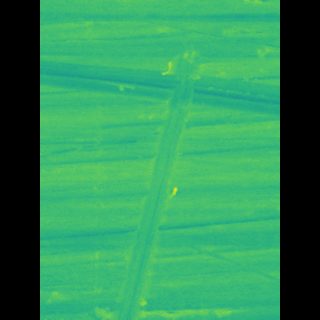Loch: (116, 46, 193, 319), (68, 55, 250, 121), (92, 298, 232, 319)
